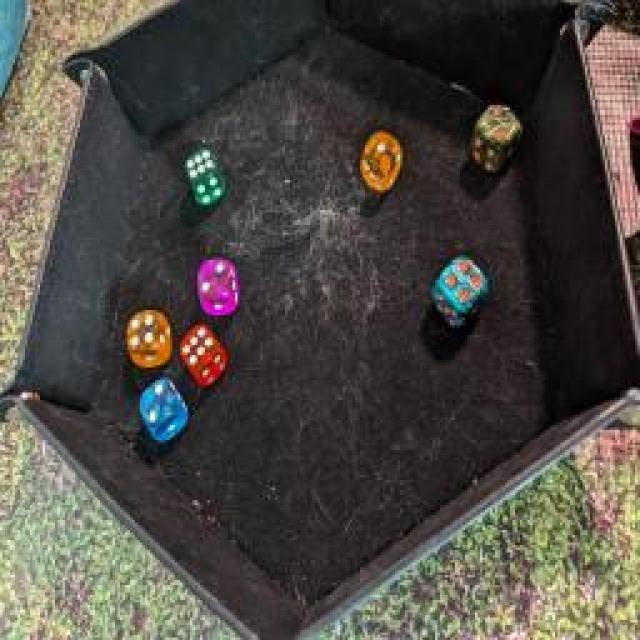dice_1: (356, 125, 404, 193)
dice_2: (471, 100, 521, 180), (138, 374, 188, 448), (198, 249, 238, 309)
dice_4: (430, 256, 490, 334), (124, 306, 174, 364)
dice_6: (179, 319, 229, 386), (185, 142, 223, 208)
